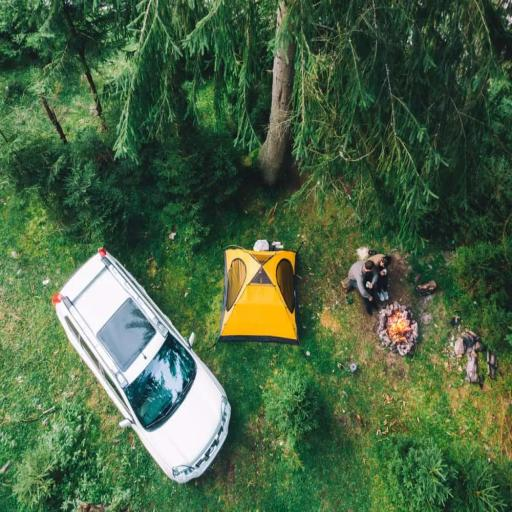Tent: (219, 243, 299, 345)
